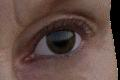eye: (47, 29, 76, 53)
